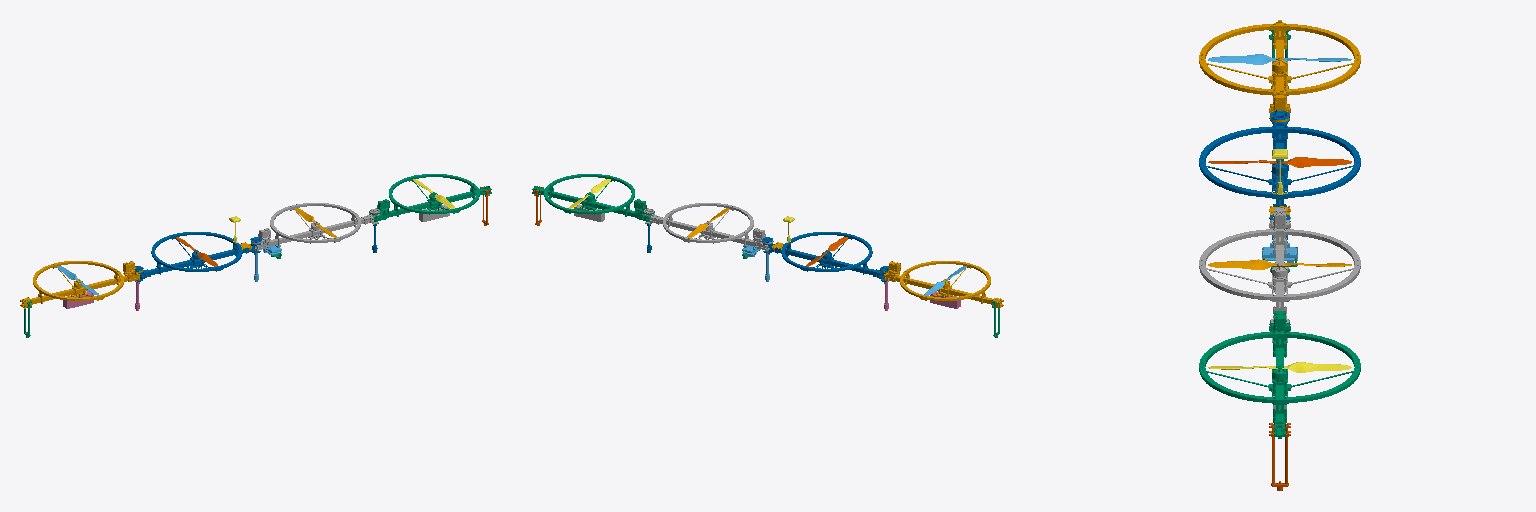
The robot description file, URDF, robot "hydrus":
<?xml version="1.0" ?>
<robot name="hydrus">
  <baselink name="fc"/>
  <thrust_link name="thrust"/>
  <m_f_rate value="-0.0172"/>
  <link name="link1">
    <inertial>
      <origin rpy="0 0 0" xyz="0.357 0.0 0.018"/>
      <mass value="0.58712"/>
      <inertia ixx="0.00179" ixy="0.00000" ixz="0.00067" iyy="0.01605" iyz="0.00000" izz="0.01714"/>
    </inertial>
    <visual>
      <origin rpy="0 0 0" xyz="0.3 0 0"/>
      <geometry>
        <mesh filename="link1.stl"/>
      </geometry>
    </visual>
    <collision name="link1">
      <origin rpy="0 0 0" xyz="0.3 0 0"/>
      <geometry>
        <mesh filename="link1.stl"/>
      </geometry>
    </collision>
  </link>
  <gazebo reference="link1">
    <dampingFactor>0.00</dampingFactor>
  </gazebo>
  <joint name="rotor1" type="continuous">
    <limit effort="100.0" lower="1.0" upper="20.0" velocity="0.5"/>
    <parent link="link1"/>
    <child link="thrust1"/>
    <origin rpy="0 0 0" xyz="0.3 0 0.013"/>
    <axis xyz="0 0 -1"/>
  </joint>
  <link name="thrust1">
    <inertial>
      <origin rpy="0 0 0" xyz="0 0 0"/>
      <mass value="0.0001"/>
      <inertia ixx="0.00001" ixy="0.0" ixz="0.0" iyy="0.00001" iyz="0.0" izz="0.00002"/>
    </inertial>
    <visual>
      <origin rpy="0 0 0" xyz="0 0 0.032"/>
      <geometry>
        <mesh filename="T-motor-CF-14inch-CW.stl"/>
      </geometry>
    </visual>
    <collision name="thrust1">
      <origin rpy="0 0 0" xyz="0 0 0.032"/>
      <geometry>
        <mesh filename="T-motor-CF-14inch-CW.stl"/>
      </geometry>
    </collision>
  </link>
  <gazebo reference="thrust1">
    <dampingFactor>0.00</dampingFactor>
  </gazebo>
  <joint name="link12leg1" type="fixed">
    <parent link="link1"/>
    <child link="leg1"/>
    <origin rpy="0 0 0" xyz="0.041159999999999974 0.0 0"/>
  </joint>
  <link name="leg1">
    <inertial>
      <origin rpy="0 0 0" xyz="0.0 0.0005 -0.09411"/>
      <mass value="0.0471"/>
      <inertia ixx="0.000251" ixy="0.000000" ixz="0.000000" iyy="0.000242" iyz="0.000000" izz="0.000011"/>
    </inertial>
    <visual>
      <origin rpy="0 0 0" xyz="0 0 0"/>
      <geometry>
        <mesh filename="end_leg.stl"/>
      </geometry>
    </visual>
    <collision name="leg1">
      <origin rpy="0 0 0" xyz="0 0 0"/>
      <geometry>
        <mesh filename="end_leg.stl"/>
      </geometry>
    </collision>
  </link>
  <joint name="joint1" type="revolute">
    <limit effort="10.0" lower="-1.5707963267948966" upper="1.5707963267948966" velocity="0.5"/>
    <parent link="link1"/>
    <child link="link2"/>
    <origin rpy="0 0 0" xyz="0.6 0 0"/>
    <axis xyz="0 0 1"/>
    <dynamics damping="0.9" friction="0.05"/>
  </joint>
  <link name="root">
    <inertial>
      <origin rpy="0 0 0" xyz="0 0 0"/>
      <mass value="0.00001"/>
      <inertia ixx="0.000001" ixy="0.0" ixz="0.0" iyy="0.000001" iyz="0.0" izz="0.000002"/>
    </inertial>
  </link>
  <joint name="root_joint" type="fixed">
    <parent link="root"/>
    <child link="link1"/>
    <origin rpy="0 0 0" xyz="0 0 0"/>
    <axis xyz="0 0 1"/>
  </joint>
  <gazebo reference="link1">
    <mu1>0.1</mu1>
    <mu2>0.1</mu2>
  </gazebo>
  <link name="link2">
    <inertial>
      <origin rpy="0 0 0" xyz="0.3 0.0 0.01287"/>
      <mass value="0.55744"/>
      <inertia ixx="0.00171" ixy="0.00000" ixz="0.00001" iyy="0.01727" iyz="0.00000" izz="0.01844"/>
    </inertial>
    <visual>
      <origin rpy="0 0 0" xyz="0.3 0 0"/>
      <geometry>
        <mesh filename="link2.stl"/>
      </geometry>
    </visual>
    <collision name="link2">
      <origin rpy="0 0 0" xyz="0.3 0 0"/>
      <geometry>
        <mesh filename="link2.stl"/>
      </geometry>
    </collision>
  </link>
  <gazebo reference="link2">
    <dampingFactor>0.00</dampingFactor>
  </gazebo>
  <joint name="rotor2" type="continuous">
    <limit effort="100.0" lower="1.0" upper="20.0" velocity="0.5"/>
    <parent link="link2"/>
    <child link="thrust2"/>
    <origin rpy="0 0 0" xyz="0.3 0 0.013"/>
    <axis xyz="0 0 1"/>
  </joint>
  <link name="thrust2">
    <inertial>
      <origin rpy="0 0 0" xyz="0 0 0"/>
      <mass value="0.0001"/>
      <inertia ixx="0.00001" ixy="0.0" ixz="0.0" iyy="0.00001" iyz="0.0" izz="0.00002"/>
    </inertial>
    <visual>
      <origin rpy="0 0 0" xyz="0 0 0.032"/>
      <geometry>
        <mesh filename="T-motor-CF-14inch-CCW.stl"/>
      </geometry>
    </visual>
    <collision name="thrust2">
      <origin rpy="0 0 0" xyz="0 0 0.032"/>
      <geometry>
        <mesh filename="T-motor-CF-14inch-CCW.stl"/>
      </geometry>
    </collision>
  </link>
  <gazebo reference="thrust2">
    <dampingFactor>0.00</dampingFactor>
  </gazebo>
  <joint name="link22leg2" type="fixed">
    <parent link="link2"/>
    <child link="leg2"/>
    <origin rpy="0 0 0" xyz="0.0 0.0 0"/>
  </joint>
  <link name="leg2">
    <inertial>
      <origin rpy="0 0 0" xyz="0.0 0.0005 -0.09521"/>
      <mass value="0.0471"/>
      <inertia ixx="0.000251" ixy="0.000000" ixz="0.000000" iyy="0.000242" iyz="0.000000" izz="0.000011"/>
    </inertial>
    <visual>
      <origin rpy="0 0 0" xyz="0 0 0"/>
      <geometry>
        <mesh filename="joint_leg.stl"/>
      </geometry>
    </visual>
    <collision name="leg2">
      <origin rpy="0 0 0" xyz="0 0 0"/>
      <geometry>
        <mesh filename="joint_leg.stl"/>
      </geometry>
    </collision>
  </link>
  <joint name="joint2" type="revolute">
    <limit effort="10.0" lower="-1.5707963267948966" upper="1.5707963267948966" velocity="0.5"/>
    <parent link="link2"/>
    <child link="link3"/>
    <origin rpy="0 0 0" xyz="0.6 0 0"/>
    <axis xyz="0 0 1"/>
    <dynamics damping="0.9" friction="0.05"/>
  </joint>
  <gazebo reference="link2">
    <mu1>0.1</mu1>
    <mu2>0.1</mu2>
  </gazebo>
  <link name="link3">
    <inertial>
      <origin rpy="0 0 0" xyz="0.2683 0.0 0.01836"/>
      <mass value="0.63453"/>
      <inertia ixx="0.00182" ixy="0.00000" ixz="-0.00077" iyy="0.02232" iyz="0.00000" izz="0.02254"/>
    </inertial>
    <visual>
      <origin rpy="0 0 0" xyz="0.3 0 0"/>
      <geometry>
        <mesh filename="link3.stl"/>
      </geometry>
    </visual>
    <collision name="link3">
      <origin rpy="0 0 0" xyz="0.3 0 0"/>
      <geometry>
        <mesh filename="link3.stl"/>
      </geometry>
    </collision>
  </link>
  <gazebo reference="link3">
    <dampingFactor>0.00</dampingFactor>
  </gazebo>
  <joint name="rotor3" type="continuous">
    <limit effort="100.0" lower="1.0" upper="20.0" velocity="0.5"/>
    <parent link="link3"/>
    <child link="thrust3"/>
    <origin rpy="0 0 0" xyz="0.3 0 0.013"/>
    <axis xyz="0 0 -1"/>
  </joint>
  <link name="thrust3">
    <inertial>
      <origin rpy="0 0 0" xyz="0 0 0"/>
      <mass value="0.0001"/>
      <inertia ixx="0.00001" ixy="0.0" ixz="0.0" iyy="0.00001" iyz="0.0" izz="0.00002"/>
    </inertial>
    <visual>
      <origin rpy="0 0 0" xyz="0 0 0.032"/>
      <geometry>
        <mesh filename="T-motor-CF-14inch-CW.stl"/>
      </geometry>
    </visual>
    <collision name="thrust3">
      <origin rpy="0 0 0" xyz="0 0 0.032"/>
      <geometry>
        <mesh filename="T-motor-CF-14inch-CW.stl"/>
      </geometry>
    </collision>
  </link>
  <gazebo reference="thrust3">
    <dampingFactor>0.00</dampingFactor>
  </gazebo>
  <joint name="link32leg3" type="fixed">
    <parent link="link3"/>
    <child link="leg3"/>
    <origin rpy="0 0 0" xyz="0.0 0.0 0"/>
  </joint>
  <link name="leg3">
    <inertial>
      <origin rpy="0 0 0" xyz="0.0 0.0005 -0.09521"/>
      <mass value="0.0471"/>
      <inertia ixx="0.000251" ixy="0.000000" ixz="0.000000" iyy="0.000242" iyz="0.000000" izz="0.000011"/>
    </inertial>
    <visual>
      <origin rpy="0 0 0" xyz="0 0 0"/>
      <geometry>
        <mesh filename="joint_leg.stl"/>
      </geometry>
    </visual>
    <collision name="leg3">
      <origin rpy="0 0 0" xyz="0 0 0"/>
      <geometry>
        <mesh filename="joint_leg.stl"/>
      </geometry>
    </collision>
  </link>
  <joint name="joint3" type="revolute">
    <limit effort="10.0" lower="-1.5707963267948966" upper="1.5707963267948966" velocity="0.5"/>
    <parent link="link3"/>
    <child link="link4"/>
    <origin rpy="0 0 0" xyz="0.6 0 0"/>
    <axis xyz="0 0 1"/>
    <dynamics damping="0.9" friction="0.05"/>
  </joint>
  <gazebo reference="link3">
    <mu1>0.1</mu1>
    <mu2>0.1</mu2>
  </gazebo>
  <link name="link4">
    <inertial>
      <origin rpy="0 0 0" xyz="0.242 0.0 0.0188"/>
      <mass value="0.590"/>
      <inertia ixx="0.00179" ixy="0.00000" ixz="-0.00067" iyy="0.01581" iyz="0.00000" izz="0.01692"/>
    </inertial>
    <visual>
      <origin rpy="0 0 0" xyz="0.3 0 0"/>
      <geometry>
        <mesh filename="link4.stl"/>
      </geometry>
    </visual>
    <collision name="link4">
      <origin rpy="0 0 0" xyz="0.3 0 0"/>
      <geometry>
        <mesh filename="link4.stl"/>
      </geometry>
    </collision>
  </link>
  <gazebo reference="link4">
    <dampingFactor>0.00</dampingFactor>
  </gazebo>
  <joint name="rotor4" type="continuous">
    <limit effort="100.0" lower="1.0" upper="20.0" velocity="0.5"/>
    <parent link="link4"/>
    <child link="thrust4"/>
    <origin rpy="0 0 0" xyz="0.3 0 0.013"/>
    <axis xyz="0 0 1"/>
  </joint>
  <link name="thrust4">
    <inertial>
      <origin rpy="0 0 0" xyz="0 0 0"/>
      <mass value="0.0001"/>
      <inertia ixx="0.00001" ixy="0.0" ixz="0.0" iyy="0.00001" iyz="0.0" izz="0.00002"/>
    </inertial>
    <visual>
      <origin rpy="0 0 0" xyz="0 0 0.032"/>
      <geometry>
        <mesh filename="T-motor-CF-14inch-CCW.stl"/>
      </geometry>
    </visual>
    <collision name="thrust4">
      <origin rpy="0 0 0" xyz="0 0 0.032"/>
      <geometry>
        <mesh filename="T-motor-CF-14inch-CCW.stl"/>
      </geometry>
    </collision>
  </link>
  <gazebo reference="thrust4">
    <dampingFactor>0.00</dampingFactor>
  </gazebo>
  <joint name="link42leg4" type="fixed">
    <parent link="link4"/>
    <child link="leg4"/>
    <origin rpy="0 0 0" xyz="0.0 0.0 0"/>
  </joint>
  <link name="leg4">
    <inertial>
      <origin rpy="0 0 0" xyz="0.0 0.0005 -0.09521"/>
      <mass value="0.0471"/>
      <inertia ixx="0.000251" ixy="0.000000" ixz="0.000000" iyy="0.000242" iyz="0.000000" izz="0.000011"/>
    </inertial>
    <visual>
      <origin rpy="0 0 0" xyz="0 0 0"/>
      <geometry>
        <mesh filename="joint_leg.stl"/>
      </geometry>
    </visual>
    <collision name="leg4">
      <origin rpy="0 0 0" xyz="0 0 0"/>
      <geometry>
        <mesh filename="joint_leg.stl"/>
      </geometry>
    </collision>
  </link>
  <joint name="link42leg5" type="fixed">
    <parent link="link4"/>
    <child link="leg5"/>
    <origin rpy="0 0 0" xyz="0.55884 0.0 0"/>
  </joint>
  <link name="leg5">
    <inertial>
      <origin rpy="0 0 0" xyz="0.0 0.0005 -0.09411"/>
      <mass value="0.0471"/>
      <inertia ixx="0.000251" ixy="0.000000" ixz="0.000000" iyy="0.000242" iyz="0.000000" izz="0.000011"/>
    </inertial>
    <visual>
      <origin rpy="0 0 0" xyz="0 0 0"/>
      <geometry>
        <mesh filename="end_leg.stl"/>
      </geometry>
    </visual>
    <collision name="leg5">
      <origin rpy="0 0 0" xyz="0 0 0"/>
      <geometry>
        <mesh filename="end_leg.stl"/>
      </geometry>
    </collision>
  </link>
  <gazebo reference="link4">
    <mu1>0.1</mu1>
    <mu2>0.1</mu2>
  </gazebo>
  <joint name="link12bat1" type="fixed">
    <parent link="link1"/>
    <child link="bat1"/>
    <origin rpy="0 0 0" xyz="0.3 0.0 -0.048"/>
  </joint>
  <link name="bat1">
    <inertial>
      <origin rpy="0 0 0" xyz="0 0 0"/>
      <mass value="0.4108"/>
      <inertia ixx="0.0001" ixy="0.0" ixz="0.0" iyy="0.0006" iyz="0.0" izz="0.0006"/>
    </inertial>
    <visual>
      <origin rpy="0 0 0" xyz="0 0 0"/>
      <geometry>
        <mesh filename="Kypom-3000-6s.stl"/>
      </geometry>
    </visual>
    <collision name="bat1">
      <origin rpy="0 0 0" xyz="0 0 0"/>
      <geometry>
        <mesh filename="Kypom-3000-6s.stl"/>
      </geometry>
    </collision>
  </link>
  <joint name="link42bat2" type="fixed">
    <parent link="link4"/>
    <child link="bat2"/>
    <origin rpy="0 0 0" xyz="0.3 0.0 -0.048"/>
  </joint>
  <link name="bat2">
    <inertial>
      <origin rpy="0 0 0" xyz="0 0 0"/>
      <mass value="0.4108"/>
      <inertia ixx="0.0001" ixy="0.0" ixz="0.0" iyy="0.0006" iyz="0.0" izz="0.0006"/>
    </inertial>
    <visual>
      <origin rpy="0 0 0" xyz="0 0 0"/>
      <geometry>
        <mesh filename="Kypom-3000-6s.stl"/>
      </geometry>
    </visual>
    <collision name="bat2">
      <origin rpy="0 0 0" xyz="0 0 0"/>
      <geometry>
        <mesh filename="Kypom-3000-6s.stl"/>
      </geometry>
    </collision>
  </link>
  <joint name="link22fc" type="fixed">
    <parent link="link2"/>
    <child link="fc"/>
    <origin rpy="0 0 0" xyz="0.5221 -0.0044 0.02135"/>
  </joint>
  <link name="fc">
    <inertial>
      <mass value="0.05"/>
      <origin rpy="0 0 0" xyz="0.013000000000000001 0.0044 -0.009000000000000001"/>
      <inertia ixx="0.00001" ixy="0.0" ixz="0.0" iyy="0.00001" iyz="0.0" izz="0.00002"/>
    </inertial>
    <visual>
      <origin rpy="0 0 0" xyz="0 0 0"/>
      <geometry>
        <mesh filename="spinal.stl"/>
      </geometry>
    </visual>
    <collision name="fc">
      <origin rpy="0 0 0" xyz="0 0 0"/>
      <geometry>
        <mesh filename="spinal.stl"/>
      </geometry>
    </collision>
  </link>
  <joint name="link32pc" type="fixed">
    <parent link="link3"/>
    <child link="pc"/>
    <origin rpy="0 0 0" xyz="0.06225 0.0 -0.01"/>
  </joint>
  <link name="pc">
    <inertial>
      <mass value="0.181"/>
      <origin rpy="0 0 0" xyz="0.018000000000000002 0.004 -0.018000000000000002"/>
      <inertia ixx="0.00007" ixy="0.0" ixz="0.0" iyy="0.00003" iyz="0.0" izz="0.00009"/>
    </inertial>
    <visual>
      <origin rpy="0 0 0" xyz="0 0 0"/>
      <geometry>
        <mesh filename="jetson_tx2_unit.stl"/>
      </geometry>
    </visual>
    <collision name="pc">
      <origin rpy="0 0 0" xyz="0 0 0"/>
      <geometry>
        <mesh filename="jetson_tx2_unit.stl"/>
      </geometry>
    </collision>
  </link>
  <joint name="link32leddarone" type="fixed">
    <parent link="link3"/>
    <child link="leddarone"/>
    <origin rpy="3.141592653589793 0 0" xyz="0.11449999999999999 0.0 -0.0626"/>
  </joint>
  <link name="leddarone">
    <inertial>
      <origin rpy="0 0 0" xyz="-0.008 0.0 0.0"/>
      <mass value="0.025"/>
      <inertia ixx="0.00001" ixy="0.000000" ixz="0.000000" iyy="0.000006" iyz="0.000000" izz="0.00001"/>
    </inertial>
    <visual>
      <origin rpy="0 0 0" xyz="0 0 0"/>
      <geometry>
        <mesh filename="leddar_one_tx2_attached_mode.stl"/>
      </geometry>
    </visual>
    <collision name="leddarone">
      <origin rpy="0 0 0" xyz="0 0 0"/>
      <geometry>
        <mesh filename="leddar_one_tx2_attached_mode.stl"/>
      </geometry>
    </collision>
  </link>
  <joint name="link22gps" type="fixed">
    <parent link="link2"/>
    <child link="gps"/>
    <origin rpy="0 0 0" xyz="0.4925 0.0 0.152"/>
  </joint>
  <link name="gps">
    <inertial>
      <origin rpy="0 0 0" xyz="0.000000 0.000000 -0.013"/>
      <mass value="0.042"/>
      <inertia ixx="0.00006" ixy="0.000000" ixz="0.000000" iyy="0.00006" iyz="0.000000" izz="0.000007"/>
    </inertial>
    <visual>
      <origin rpy="0 0 0" xyz="0 0 0"/>
      <geometry>
        <mesh filename="gps_ublox_m8n.stl"/>
      </geometry>
    </visual>
    <collision name="gps">
      <origin rpy="0 0 0" xyz="0 0 0"/>
      <geometry>
        <mesh filename="gps_ublox_m8n.stl"/>
      </geometry>
    </collision>
  </link>
  <joint name="gps2magnet" type="fixed">
    <parent link="gps"/>
    <child link="magnet"/>
    <origin rpy="0 0 0" xyz="0 0 0"/>
  </joint>
  <link name="magnet">
    <inertial>
      <mass value="0.00001"/>
      <origin rpy="0 0 0" xyz="0 0 0"/>
      <inertia ixx="0.000001" ixy="0.0" ixz="0.0" iyy="0.000001" iyz="0.0" izz="0.000002"/>
    </inertial>
  </link>
  <mujoco>
    <compiler balanceinertia="true"/>
    <option/>
  </mujoco>
</robot>

--- Render facts (derived) ---
Views: 3 orthographic renders of the robot side by side, from view 1: azimuth 30°, elevation 25°; view 2: azimuth 150°, elevation 25°; view 3: azimuth 270°, elevation 25°.
Robot: hydrus — 21 links, 20 joints (3 revolute, 4 continuous, 13 fixed); root link root; default pose: all joints at 0.
Visible links, largest first — view 1: link3, link1, link4, link2; view 2: link3, link4, link1, link2; view 3: link4, link3, link1, link2, thrust3, thrust1, thrust4, thrust2.
Boxes of the visible links, x1,y1,x2,y2 form: link3: [251, 203, 379, 250]; link1: [20, 261, 142, 308]; link4: [369, 174, 491, 221]; link2: [135, 232, 261, 281]; link3: [644, 203, 772, 250]; link4: [532, 174, 654, 221]; link1: [881, 261, 1003, 308]; link2: [762, 232, 888, 281]; link4: [1199, 311, 1360, 438]; link3: [1199, 208, 1360, 342]; link1: [1199, 20, 1360, 121]; link2: [1199, 110, 1360, 239]; thrust3: [1208, 259, 1351, 269]; thrust1: [1208, 54, 1351, 64]; thrust4: [1208, 362, 1351, 372]; thrust2: [1208, 157, 1351, 167].
Bounding box of the posed robot: 2.37 × 0.3997 × 0.3355 m (x, y, z).
19 mesh visuals loaded from 13 distinct referenced files (13 binary STL).